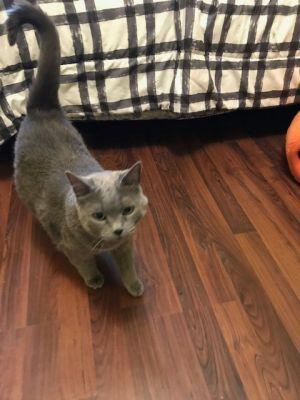rblue: (64, 157, 154, 252)
